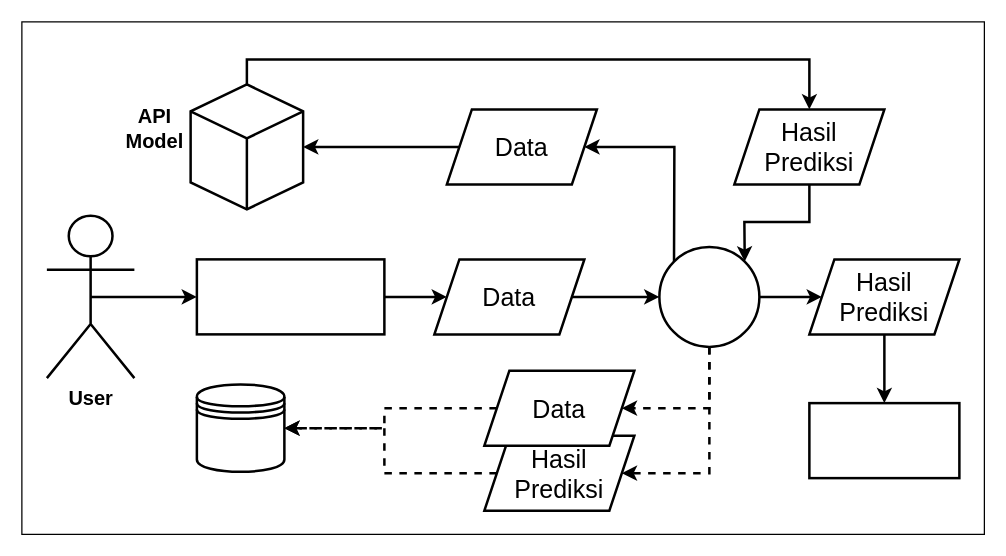
This 1006x556 diagram has some shape labels left out. Each missing label, with the box of its shape:
DB: (195, 382, 285, 472)
input parameter untuk prediksi: (195, 258, 385, 335)
Interface: (808, 401, 960, 479)
Sistem: (658, 245, 760, 348)
